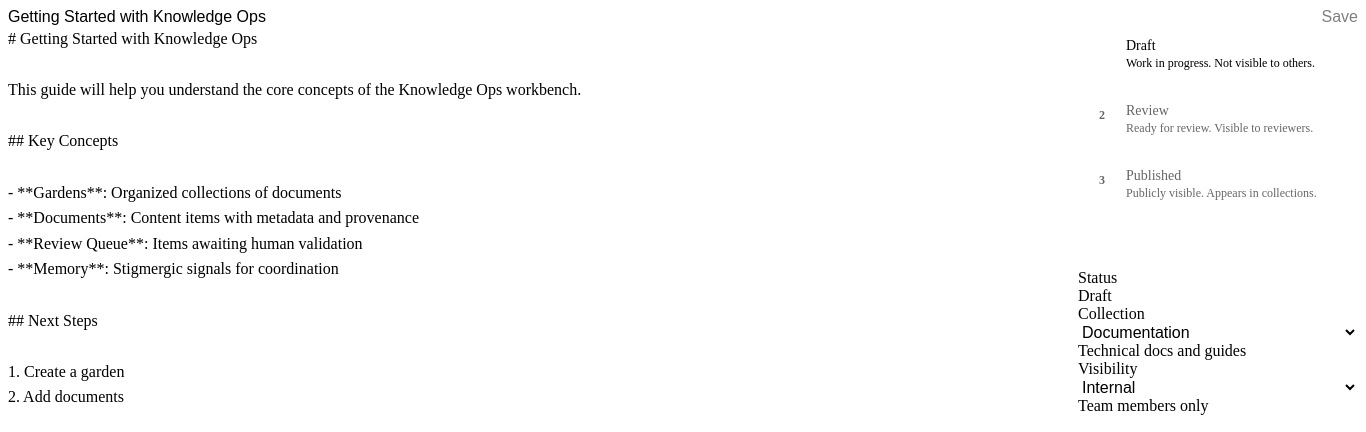
Test: ContentEditorPage › enables save button when there are changes
Type "!" into the field with placeholder "Untitled document".
click(308, 17); type("!")  # box [8,8,608,26]
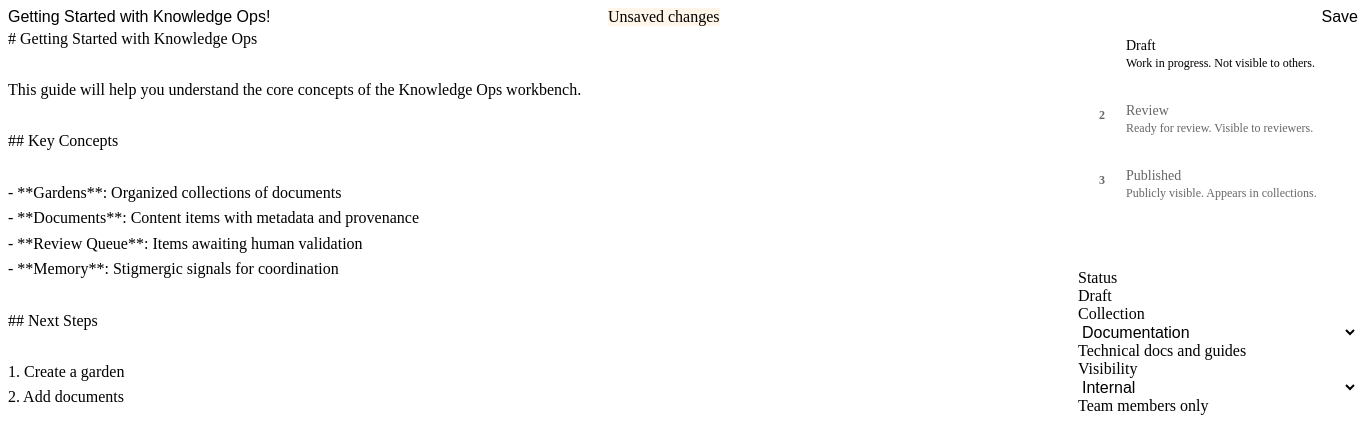
Result: the button "Save" is enabled at [1322,8,1358,26]
